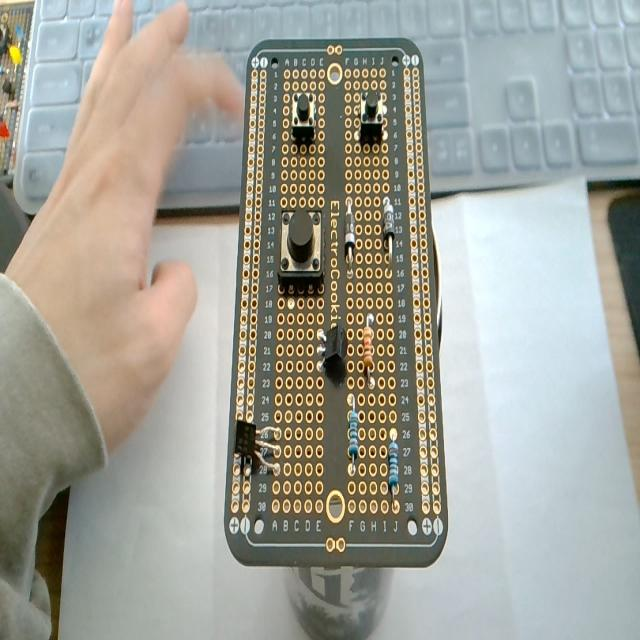diode: (382, 198, 396, 262), (344, 199, 355, 271)
resistor: (361, 318, 376, 388), (347, 394, 359, 470), (387, 436, 400, 498)
switch: (279, 207, 324, 284), (290, 89, 316, 141), (359, 90, 386, 140)
transistor: (232, 415, 280, 477), (319, 325, 348, 375)
